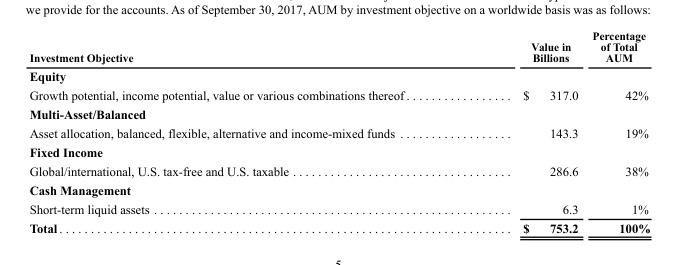table: (28, 28, 649, 234)
table column: (28, 28, 462, 234), (462, 28, 584, 234), (584, 28, 649, 234)
table column header: (28, 28, 649, 66)
table projected row header: (28, 66, 649, 85), (28, 104, 649, 123), (28, 179, 649, 198), (28, 142, 649, 160)
table row: (28, 28, 649, 66), (28, 66, 649, 85), (28, 85, 649, 104), (28, 104, 649, 123), (28, 123, 649, 142), (28, 160, 649, 179), (28, 179, 649, 198), (28, 198, 649, 217), (28, 142, 649, 160), (28, 217, 649, 234)
